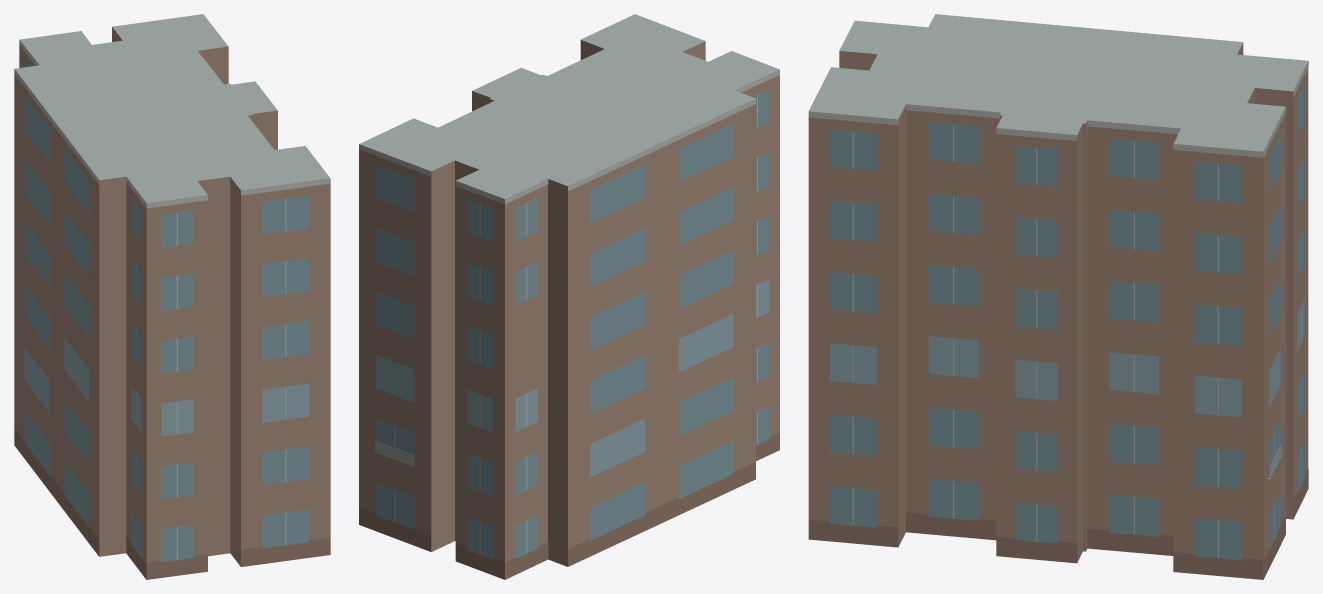
Rendered from survey-upis-32533306.glb.
3 views of the same model, side by side, from view 1: azimuth 30°, elevation 25°; view 2: azimuth 150°, elevation 25°; view 3: azimuth 270°, elevation 25° (orthographic). The views are drawn at different scales.
Parts seen in each view (by area): view 1: survey-upis-32533306.tmp; view 2: survey-upis-32533306.tmp; view 3: survey-upis-32533306.tmp.
Part boxes in pixels (left/top/right/bottom): survey-upis-32533306.tmp: left=14, top=14, right=330, bottom=579; survey-upis-32533306.tmp: left=359, top=14, right=779, bottom=579; survey-upis-32533306.tmp: left=808, top=14, right=1308, bottom=579.
Size of the model in its own units: 11.95 by 17.3 by 18.32.
